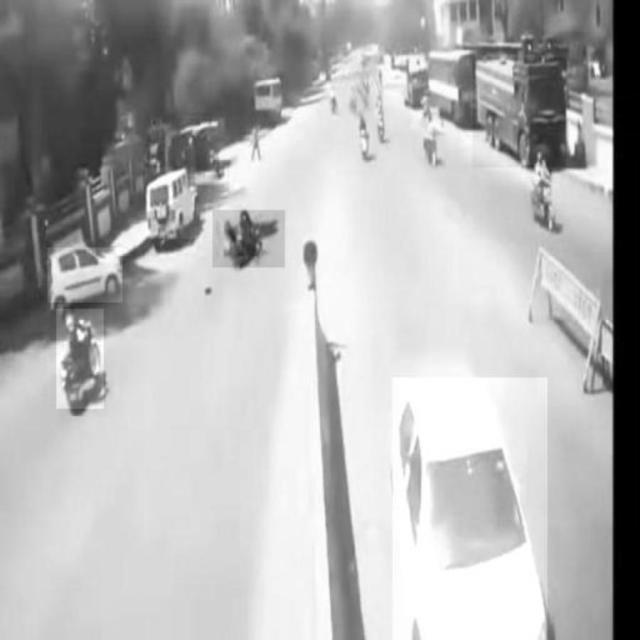accident: (213, 211, 285, 268)
vehicle: (392, 377, 548, 639), (473, 58, 566, 168), (56, 309, 103, 409), (48, 247, 122, 303), (145, 168, 199, 239)
